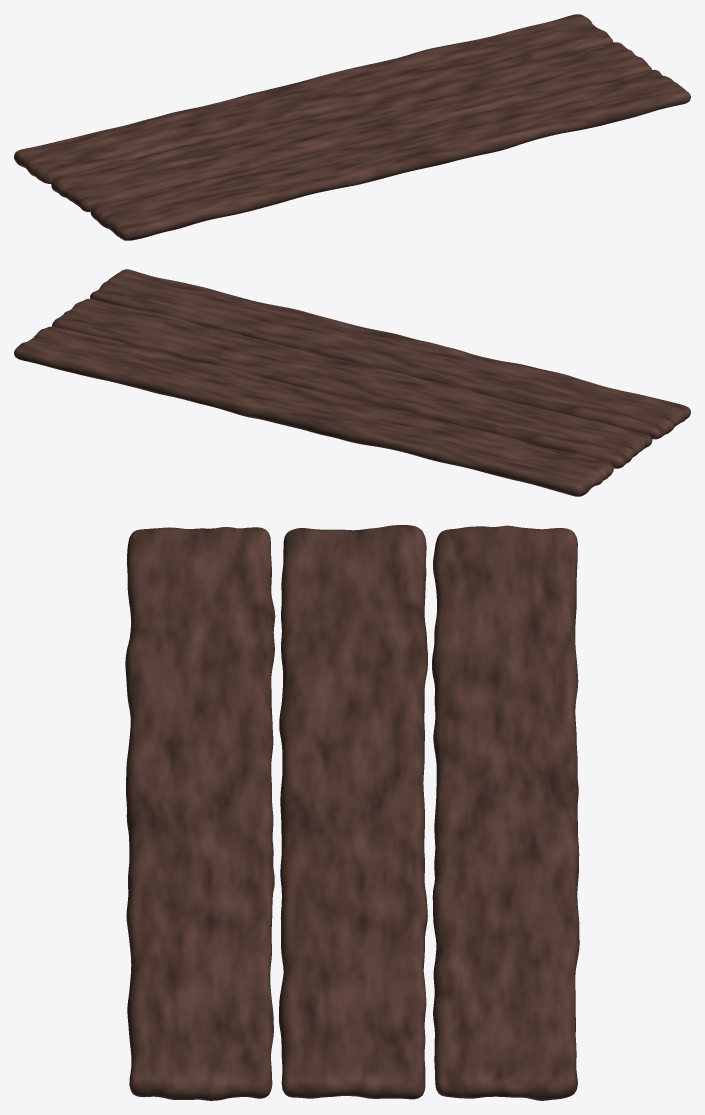
Rendered from table_top.fbx.
3 views of the same model, one above another, from view 1: azimuth 30°, elevation 25°; view 2: azimuth 150°, elevation 25°; view 3: azimuth 270°, elevation 25° (orthographic). The views are drawn at different scales.
Parts seen in each view (by area): view 1: table_top_applied, table_top_applied.001, table_top_applied.002; view 2: table_top_applied.002, table_top_applied, table_top_applied.001; view 3: table_top_applied, table_top_applied.001, table_top_applied.002.
Boxes of the visible parts, box(x1,y1,x2,y2) form: table_top_applied: box(90, 70, 690, 240); table_top_applied.001: box(51, 42, 651, 211); table_top_applied.002: box(14, 14, 613, 183); table_top_applied.002: box(14, 326, 613, 496); table_top_applied: box(90, 269, 690, 439); table_top_applied.001: box(52, 298, 652, 468); table_top_applied: box(125, 527, 275, 1100); table_top_applied.001: box(279, 525, 427, 1099); table_top_applied.002: box(432, 525, 579, 1100).
Bounding box in the file's own units: 2312 × 64.03 × 794.
Materials: 1 (1 with a texture image).
